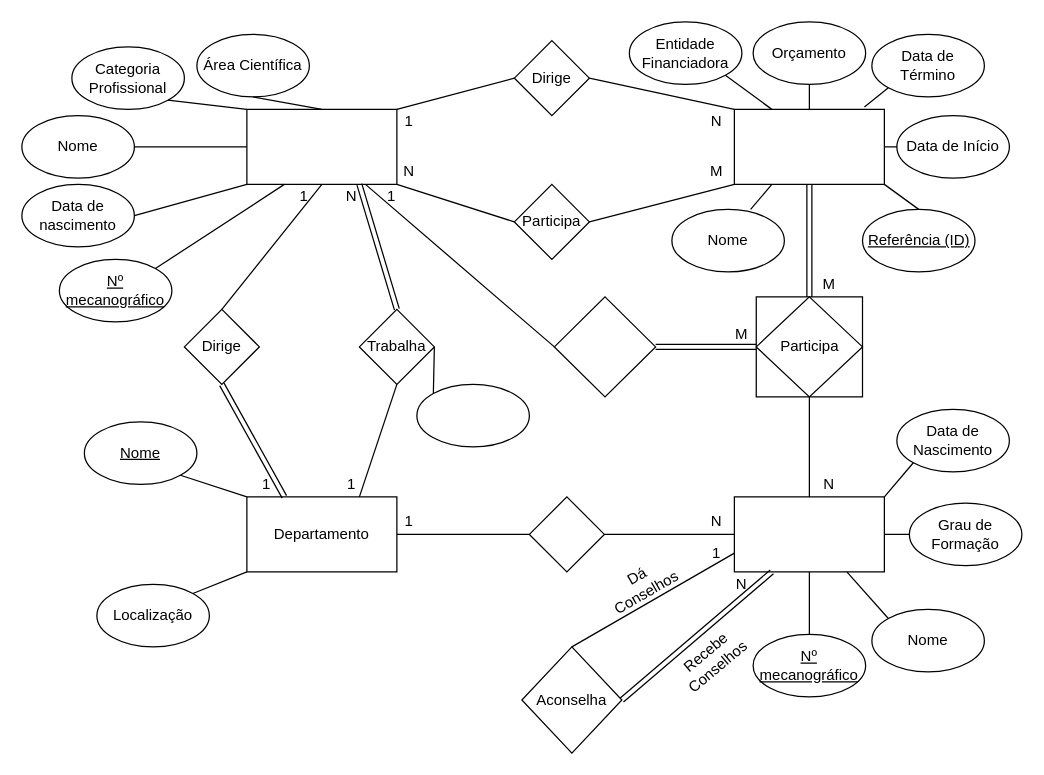
The diagram is 1044 pixels wide and 775 high, and some of its shapes have lost their labels. Each missing label, with the centre of its shape:
Estuda: pixel 566 534
Estudante Graduado: pixel 808 534
Percentagem de Dedicação: pixel 472 415
Professor: pixel 321 146
Projeto de Investigação: pixel 808 146
Supervisiona: pixel 604 346
